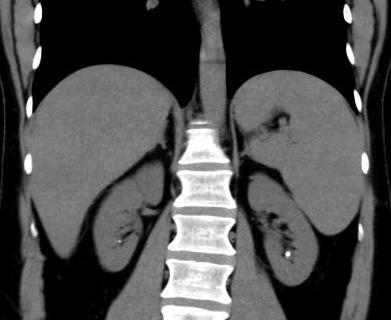Tas_Var: (284, 250, 292, 258), (116, 238, 122, 244)
